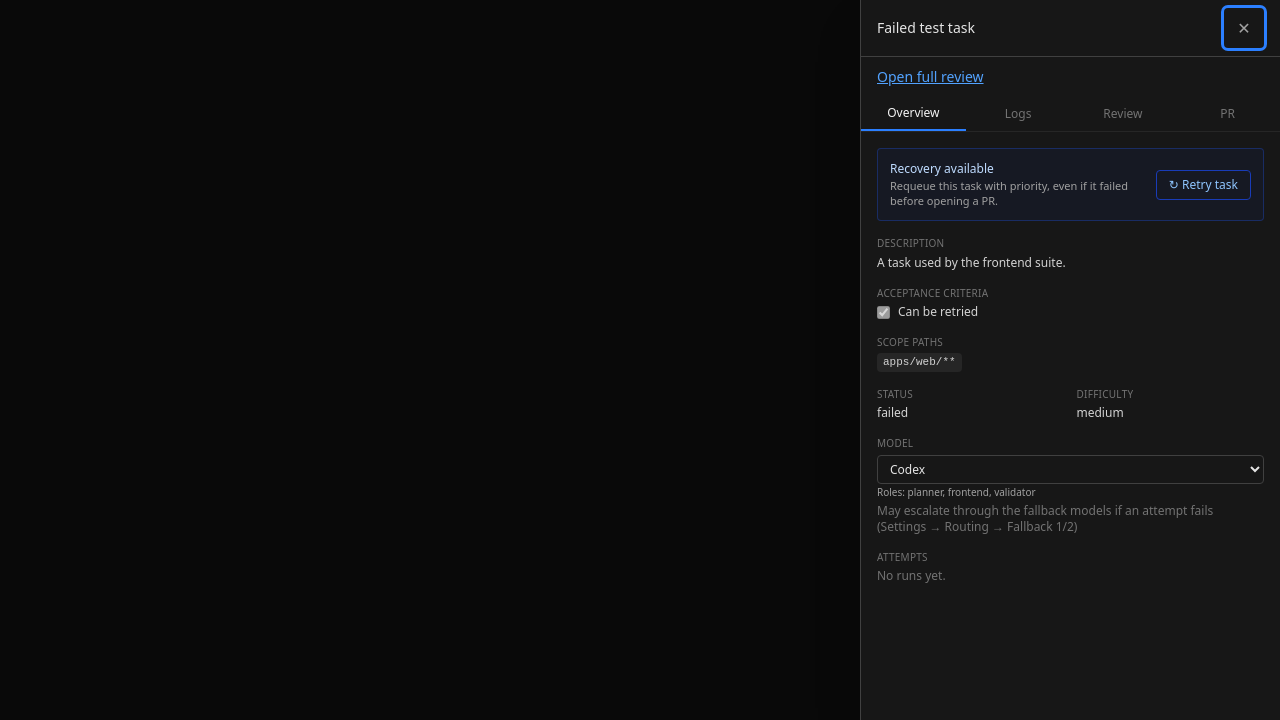
Test: VW04 task inspector history states › keeps review history failures distinct from 'No reviews yet'
Click the button "Review" at [1123, 114], box 1070,97 -> 1175,131
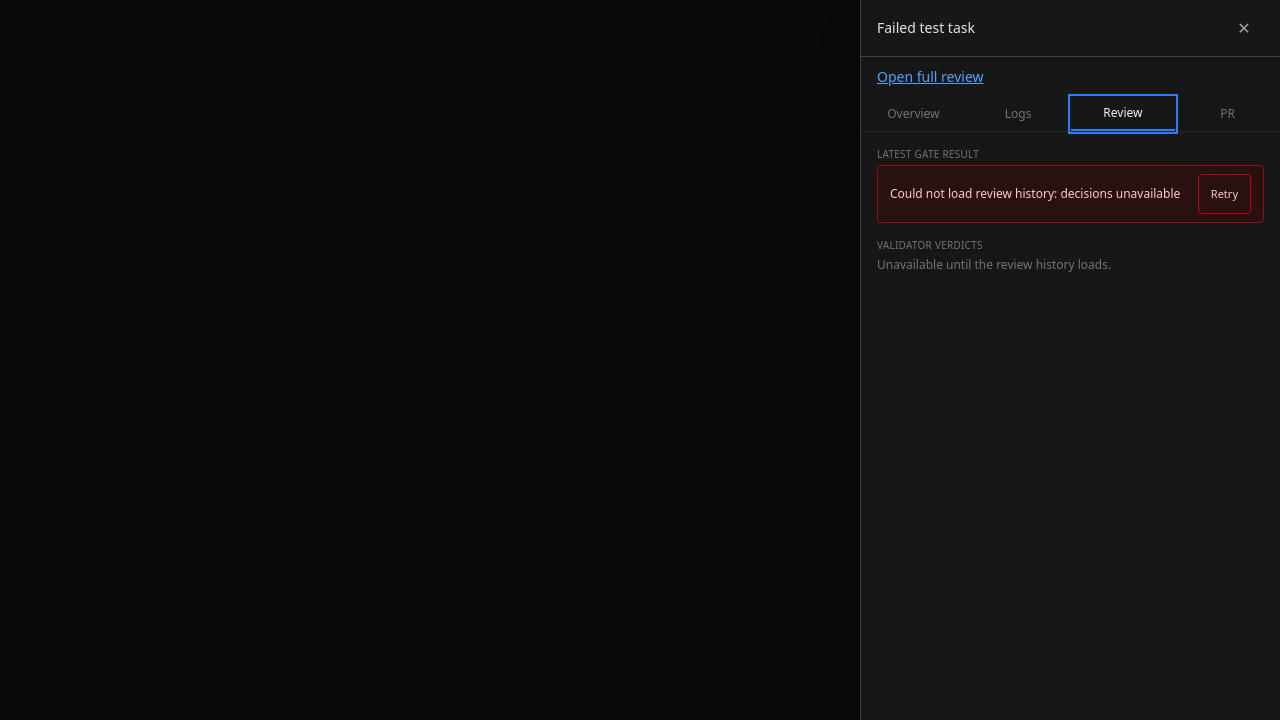
Now the message shows "Could not load review history: decisions unavailable", box 877,165 -> 1264,223
Now the text "Unavailable until the review history loads." is shown, box 877,256 -> 1111,273
